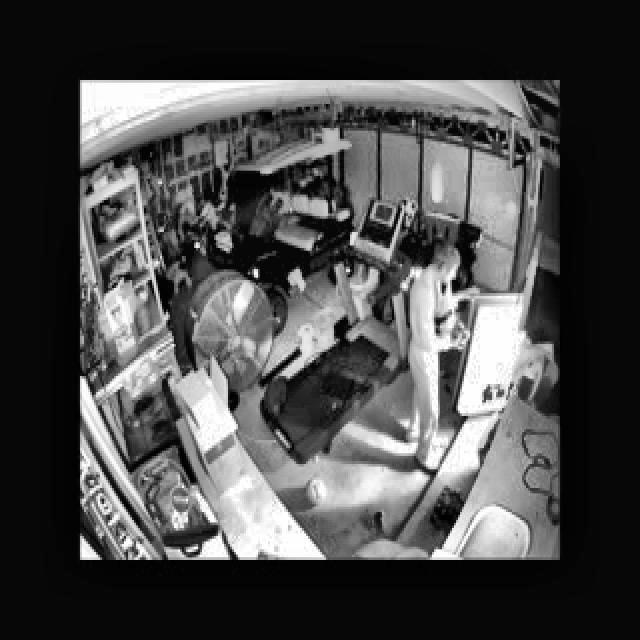burglary: (395, 223, 557, 484)
